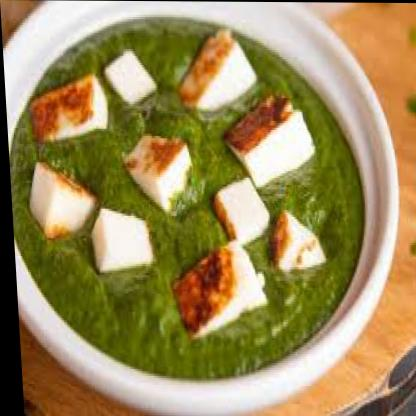palak_paneer: (1, 14, 370, 383)
